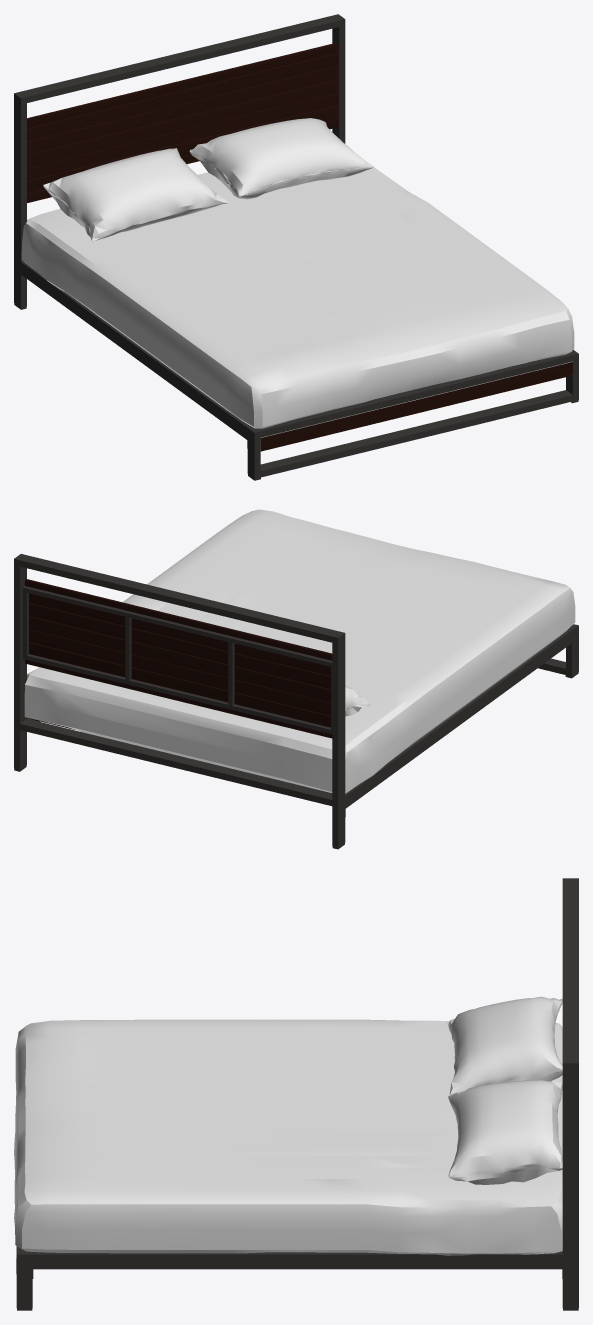
The picture shows the model from 3 angles, top to bottom: view 1: azimuth 30°, elevation 25°; view 2: azimuth 150°, elevation 25°; view 3: azimuth 270°, elevation 25°; orthographic projection. The views are drawn at different scales.
Visible parts, largest first — view 1: C-skp3161; view 2: C-skp3161; view 3: C-skp3161.
Boxes of the visible parts, x1=… form: C-skp3161: x1=14, y1=14, x2=578, y2=480; C-skp3161: x1=14, y1=509, x2=578, y2=849; C-skp3161: x1=14, y1=878, x2=578, y2=1310.
Size of the model in its own units: 1.62 by 1 by 2.07.
Materials: 3 (1 with a texture image).
